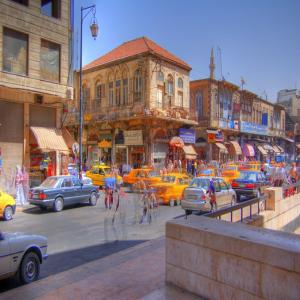Vehicle-registration-plate: (189, 196, 197, 200), (240, 185, 246, 188), (34, 195, 39, 198)
